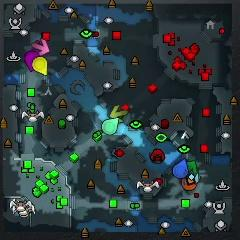p1: (173, 159, 188, 178)
p2: (103, 117, 119, 136)
p3: (24, 52, 39, 70)
p4: (31, 57, 48, 75)
p5: (180, 176, 197, 191)
x1: (32, 39, 50, 56)
x2: (110, 105, 127, 121)
x4: (187, 160, 198, 178)
